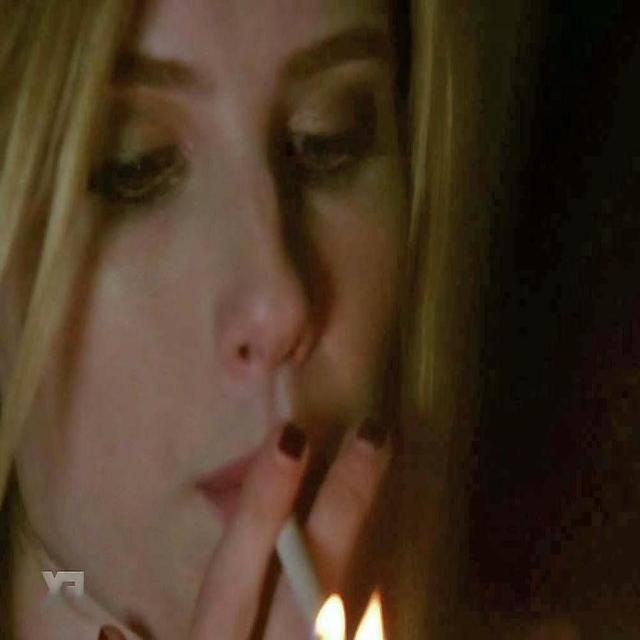smoking: (16, 5, 466, 640)
